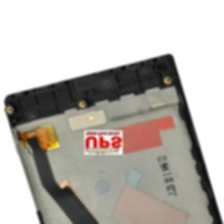phone: (2, 53, 223, 223)
